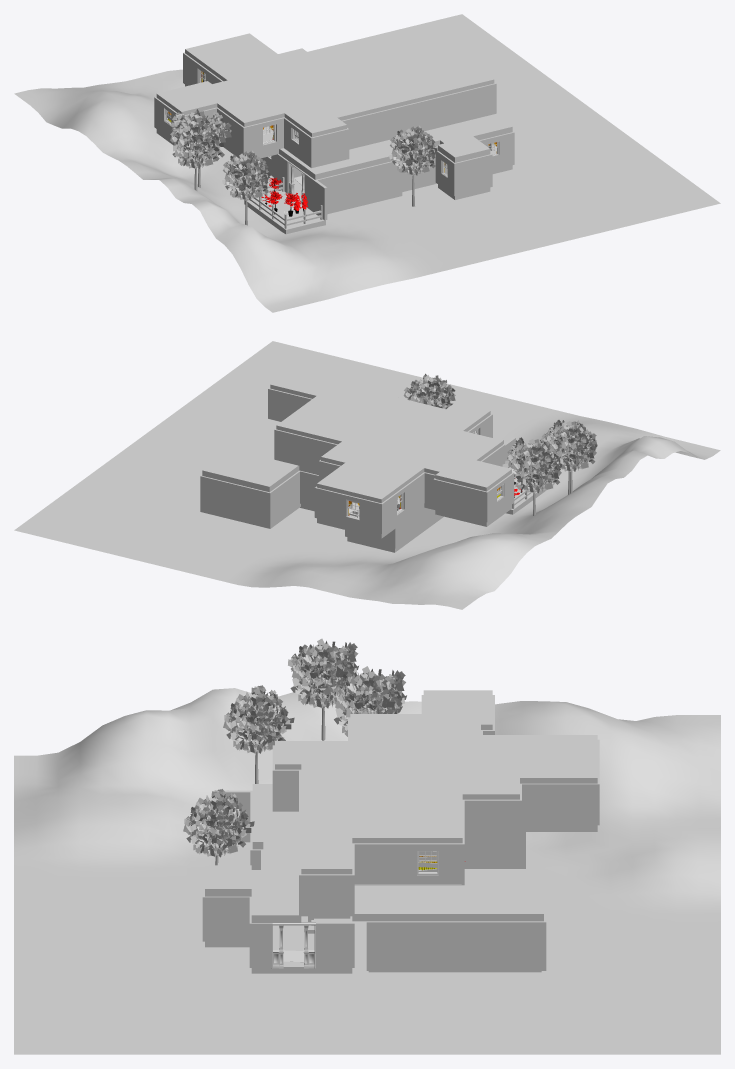
The model's file is Houselayout_Setdressingconcept.fbx.
3 views of the same model, one above another, from view 1: azimuth 30°, elevation 25°; view 2: azimuth 150°, elevation 25°; view 3: azimuth 270°, elevation 25° (orthographic). The views are drawn at different scales.
Parts seen in each view (by area): view 1: LARGEFLOOR.001, floor2_roof, floor2_basestructure, floor1_basestructure, Middle_floorandroof.001, floor1_floor, tak002.002, tak002.003, tak002, floor1_fence.002, tak002.001; view 2: LARGEFLOOR.001, floor2_roof, floor2_basestructure, floor1_basestructure, Middle_floorandroof.001, tak002.001, tak002.002, tak002.003, floor1_floor; view 3: LARGEFLOOR.001, floor2_roof, floor1_basestructure, Middle_floorandroof.001, floor2_basestructure, tak002.002, tak002, tak002.003, tak002.001, floor1_floor, SM_Arch_250cm.
Part boxes in pixels (bbox=[...]): LARGEFLOOR.001: bbox=[14, 14, 720, 312]; floor2_roof: bbox=[156, 33, 494, 137]; floor2_basestructure: bbox=[154, 52, 496, 168]; floor1_basestructure: bbox=[261, 131, 514, 220]; Middle_floorandroof.001: bbox=[156, 49, 512, 179]; floor1_floor: bbox=[244, 150, 512, 234]; tak002.002: bbox=[170, 116, 225, 191]; tak002.003: bbox=[389, 125, 437, 206]; tak002: bbox=[222, 150, 270, 225]; floor1_fence.002: bbox=[247, 177, 322, 228]; tak002.001: bbox=[172, 109, 231, 187]; LARGEFLOOR.001: bbox=[14, 341, 720, 609]; floor2_roof: bbox=[270, 371, 511, 503]; floor2_basestructure: bbox=[268, 387, 514, 533]; floor1_basestructure: bbox=[200, 437, 515, 548]; Middle_floorandroof.001: bbox=[202, 388, 511, 538]; tak002.001: bbox=[502, 437, 562, 515]; tak002.002: bbox=[544, 420, 597, 493]; tak002.003: bbox=[403, 373, 455, 408]; floor1_floor: bbox=[272, 482, 554, 552]; LARGEFLOOR.001: bbox=[14, 688, 720, 1054]; floor2_roof: bbox=[275, 690, 597, 874]; floor1_basestructure: bbox=[202, 790, 546, 970]; Middle_floorandroof.001: bbox=[205, 784, 597, 922]; floor2_basestructure: bbox=[272, 695, 599, 916]; tak002.002: bbox=[288, 638, 358, 740]; tak002: bbox=[223, 685, 294, 783]; tak002.003: bbox=[183, 789, 254, 865]; tak002.001: bbox=[331, 666, 406, 736]; floor1_floor: bbox=[205, 836, 541, 973]; SM_Arch_250cm: bbox=[271, 922, 315, 968].
Size of the model in its own units: 40.69 by 40.69 by 8.95.
